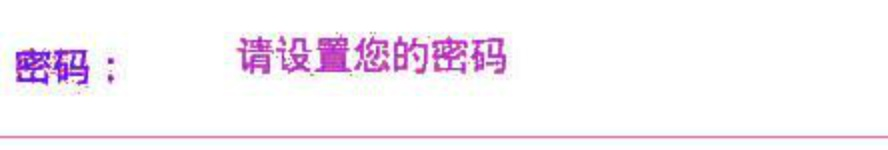EditText: (1, 1, 887, 149)
